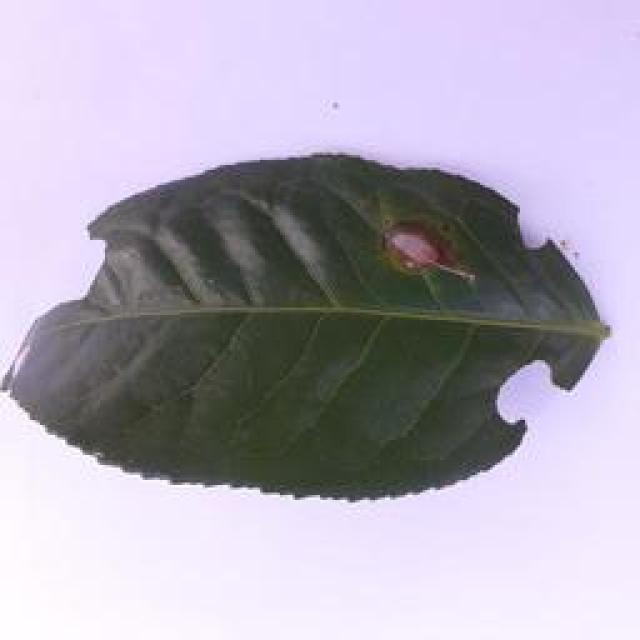Gray Blight: (5, 153, 616, 506)
